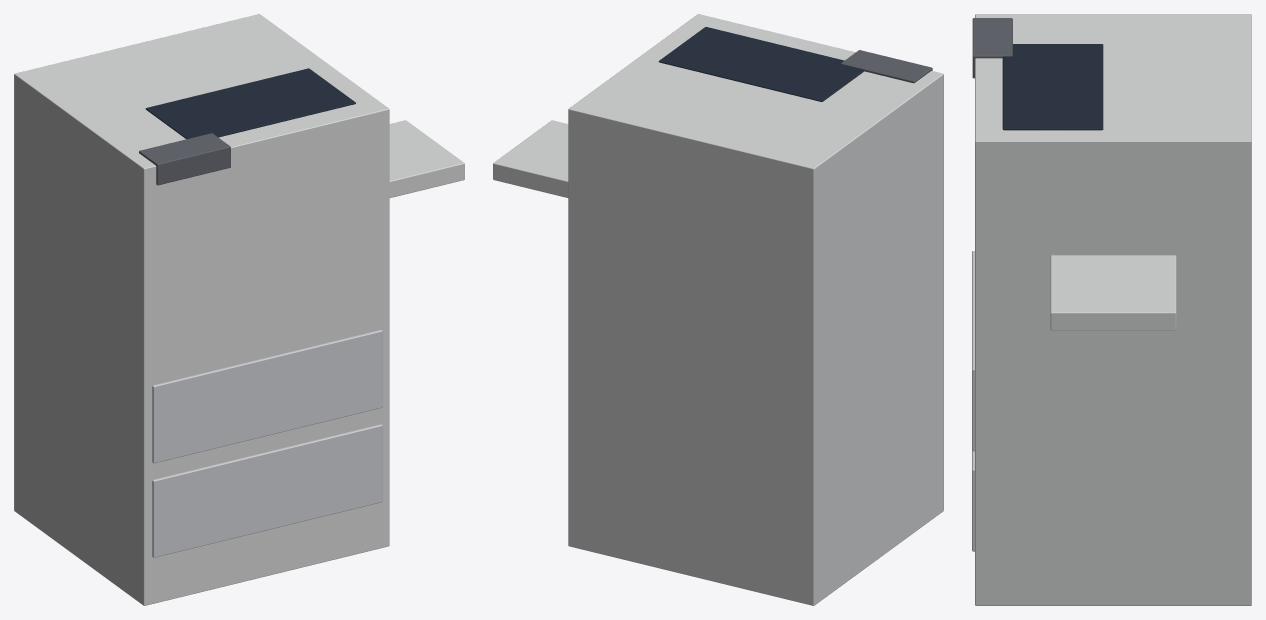
File: SM_Printer.fbx
3 views of the same model, side by side, from view 1: azimuth 30°, elevation 25°; view 2: azimuth 150°, elevation 25°; view 3: azimuth 270°, elevation 25° (orthographic). The views are drawn at different scales.
Visible parts, largest first — view 1: SM_Printer; view 2: SM_Printer; view 3: SM_Printer.
Part boxes in pixels (x1=…): SM_Printer: x1=14, y1=14, x2=464, y2=605; SM_Printer: x1=493, y1=14, x2=943, y2=605; SM_Printer: x1=972, y1=14, x2=1251, y2=605.
Bounding box in the file's own units: 0.87 × 1.03 × 0.556.
